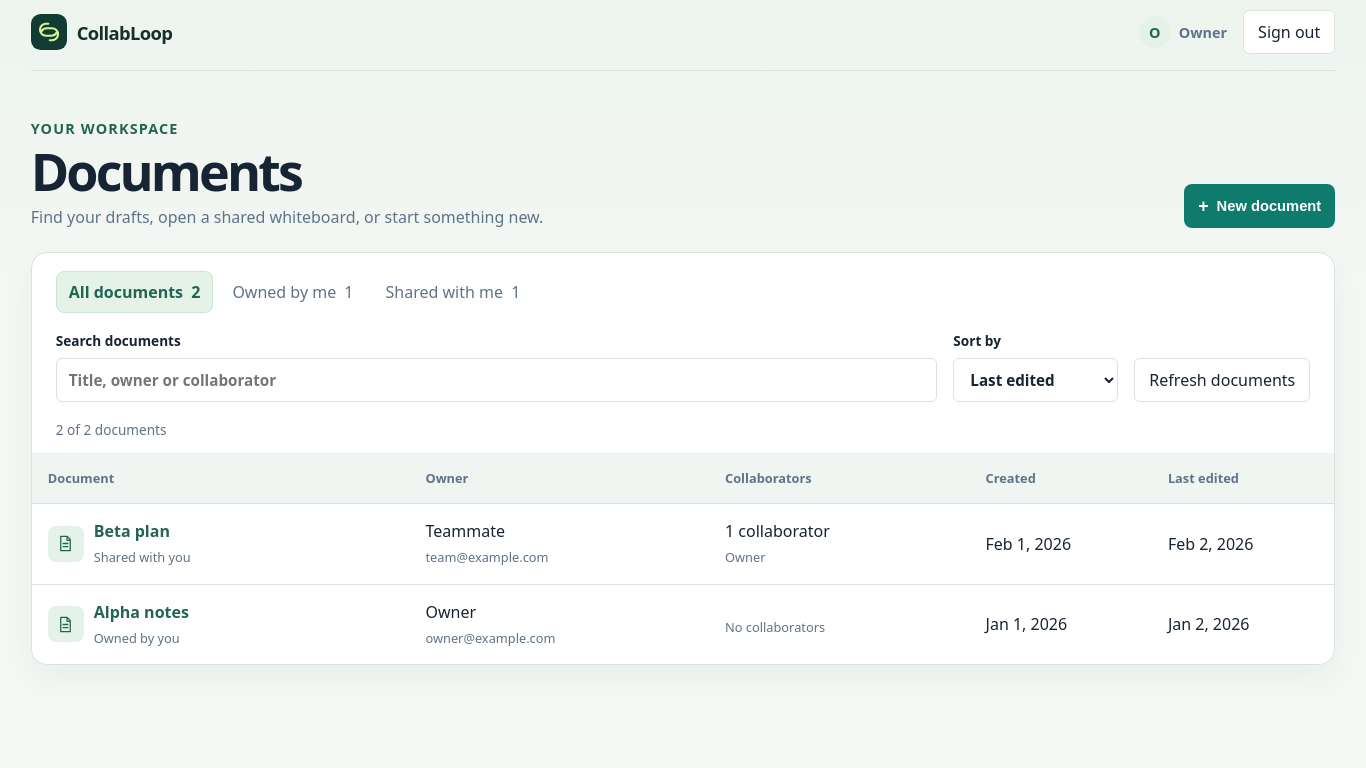
Scenario: viewer cannot rename and editor cannot delete through the UI
Click the button "Beta plan".
click(132, 531)  # box [94, 520, 170, 542]
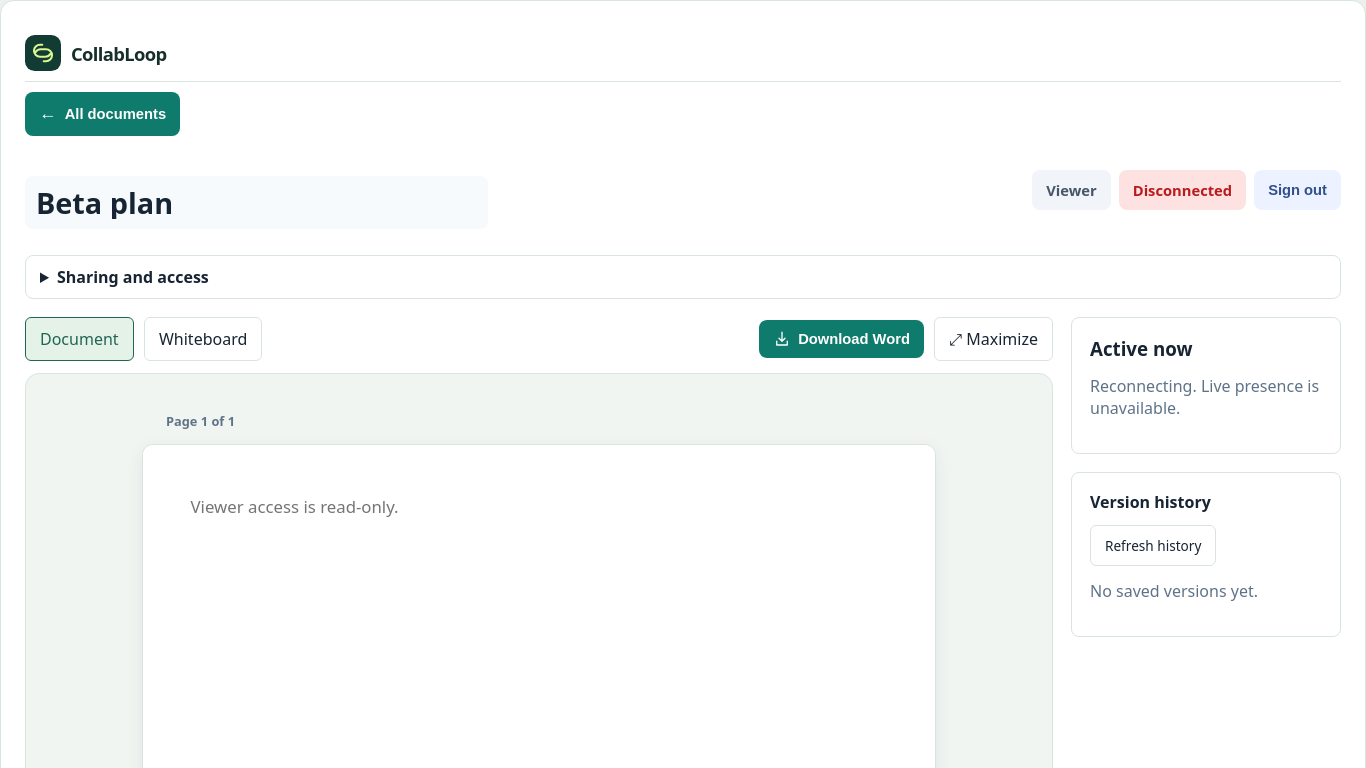
Check: the field named "Document title" is disabled, box [25, 176, 488, 229]
Click the button "← All documents".
click(103, 114)  # box [25, 92, 180, 136]
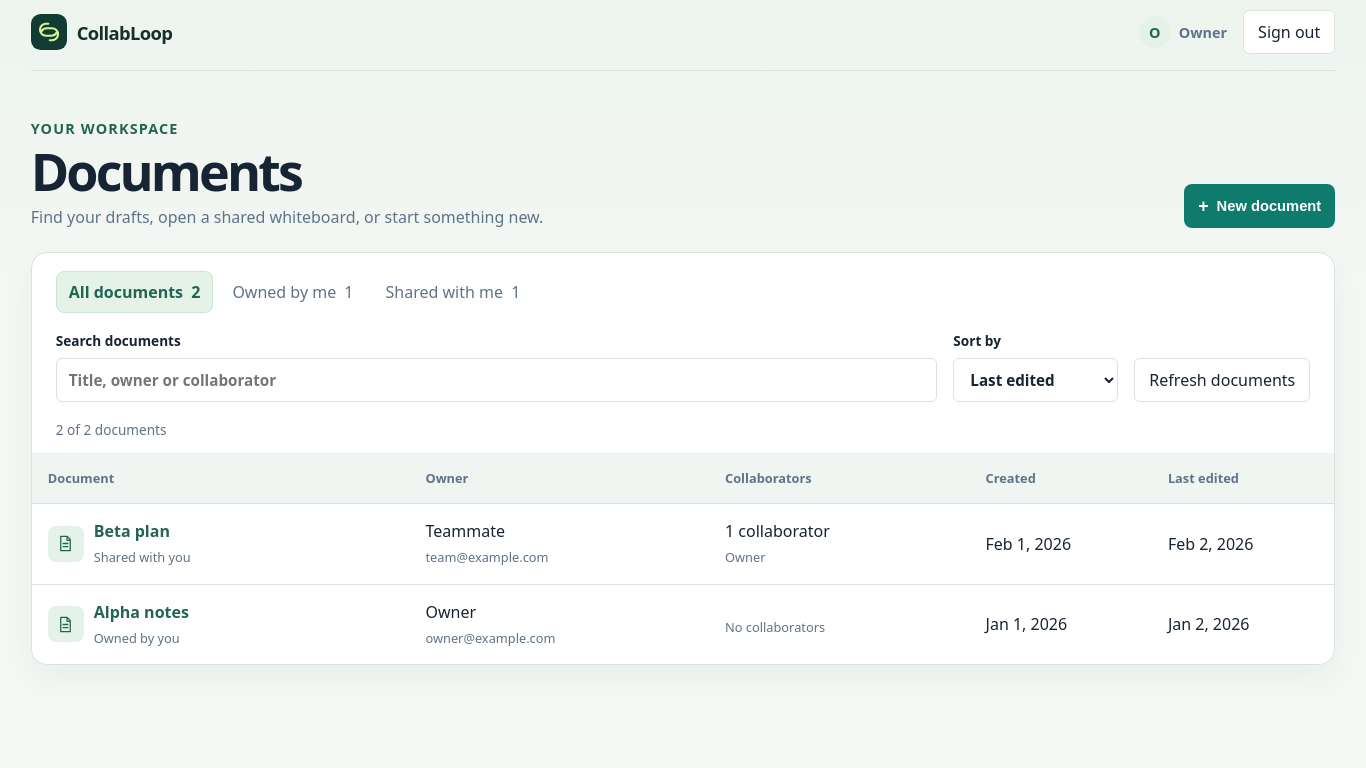
Click the button "Beta plan".
click(132, 531)  # box [94, 520, 170, 542]
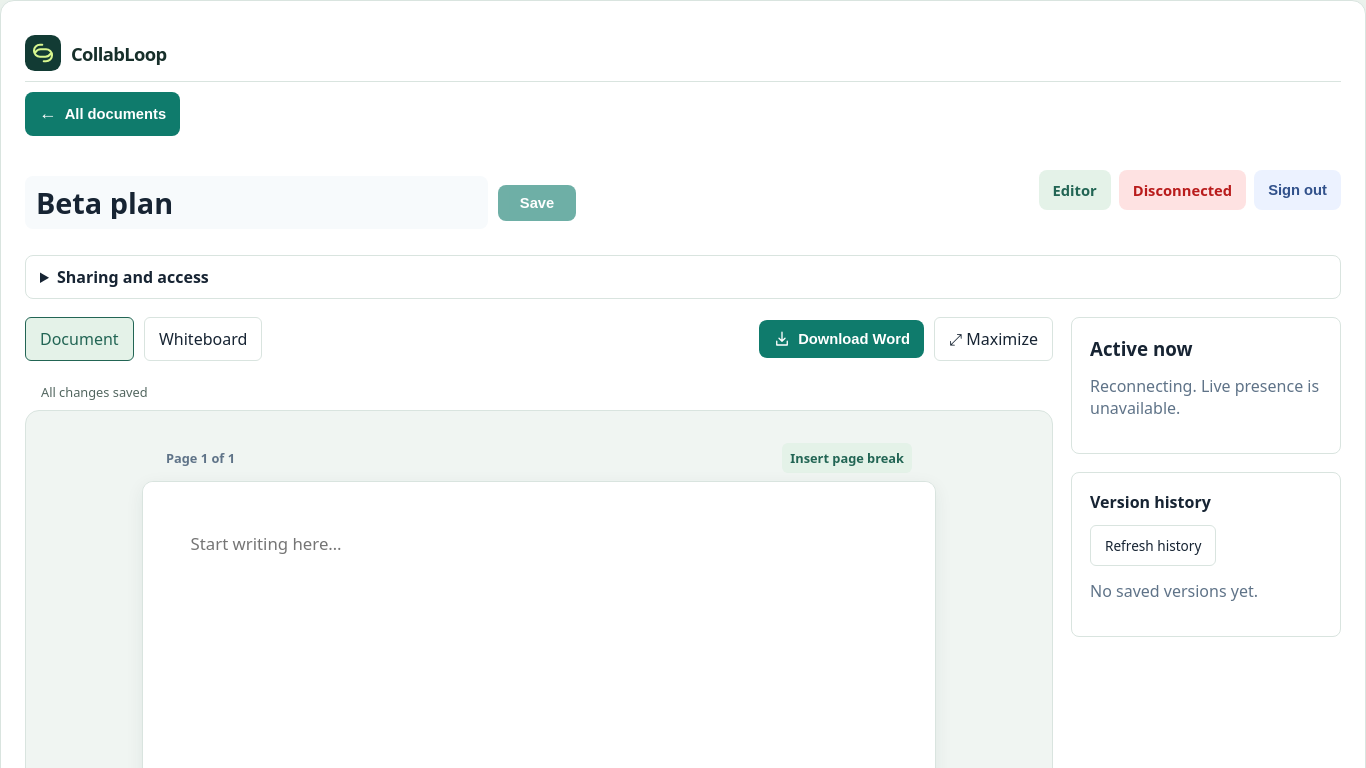
Check: the field named "Document title" is enabled, box [25, 176, 488, 229]
